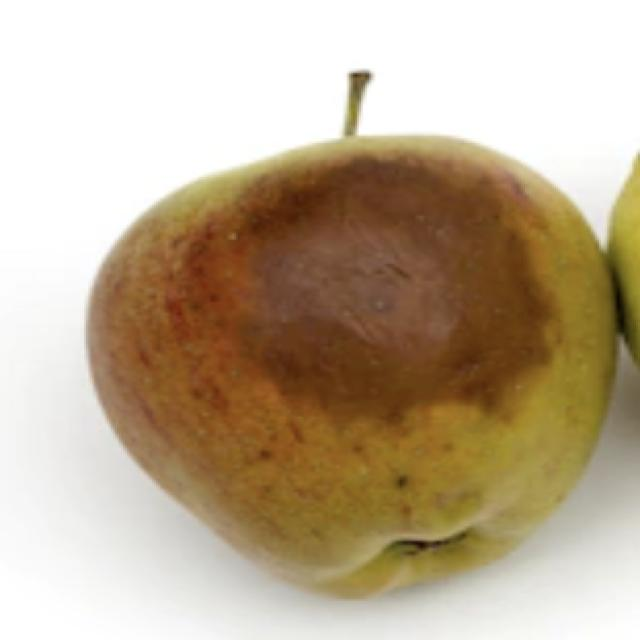apple: (87, 137, 615, 597)
